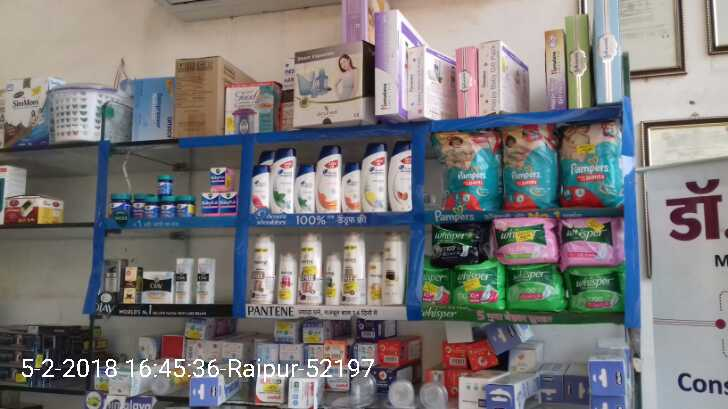beauty: (295, 230, 324, 306), (247, 229, 276, 303), (359, 141, 387, 215), (379, 234, 406, 304), (313, 144, 340, 212), (342, 229, 364, 305), (386, 141, 409, 213), (271, 147, 294, 211), (273, 252, 295, 307), (140, 271, 174, 306), (291, 164, 315, 212), (341, 160, 361, 211), (254, 167, 271, 216), (326, 260, 340, 302)
pharmacy: (111, 164, 240, 215), (558, 121, 626, 212), (436, 128, 502, 209), (503, 125, 561, 209), (485, 216, 562, 271), (503, 265, 569, 313), (559, 217, 620, 262), (448, 264, 505, 309), (566, 268, 624, 310), (429, 223, 479, 265)
